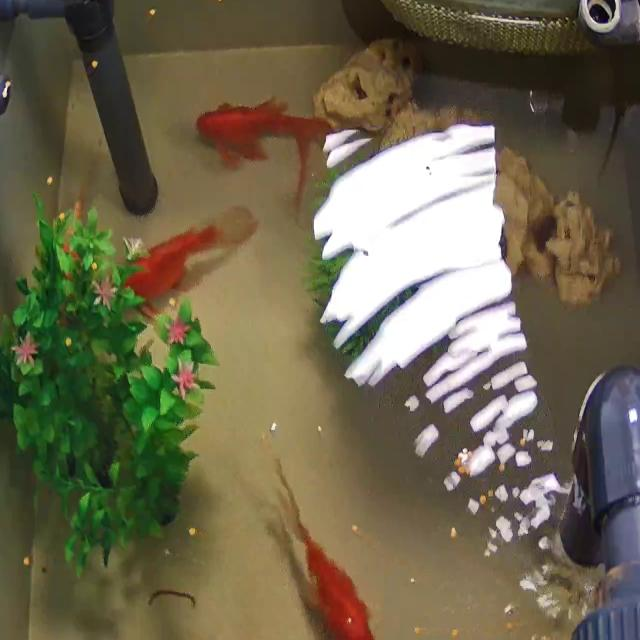fish: (266, 463, 396, 640), (201, 100, 328, 214), (120, 207, 256, 312)
